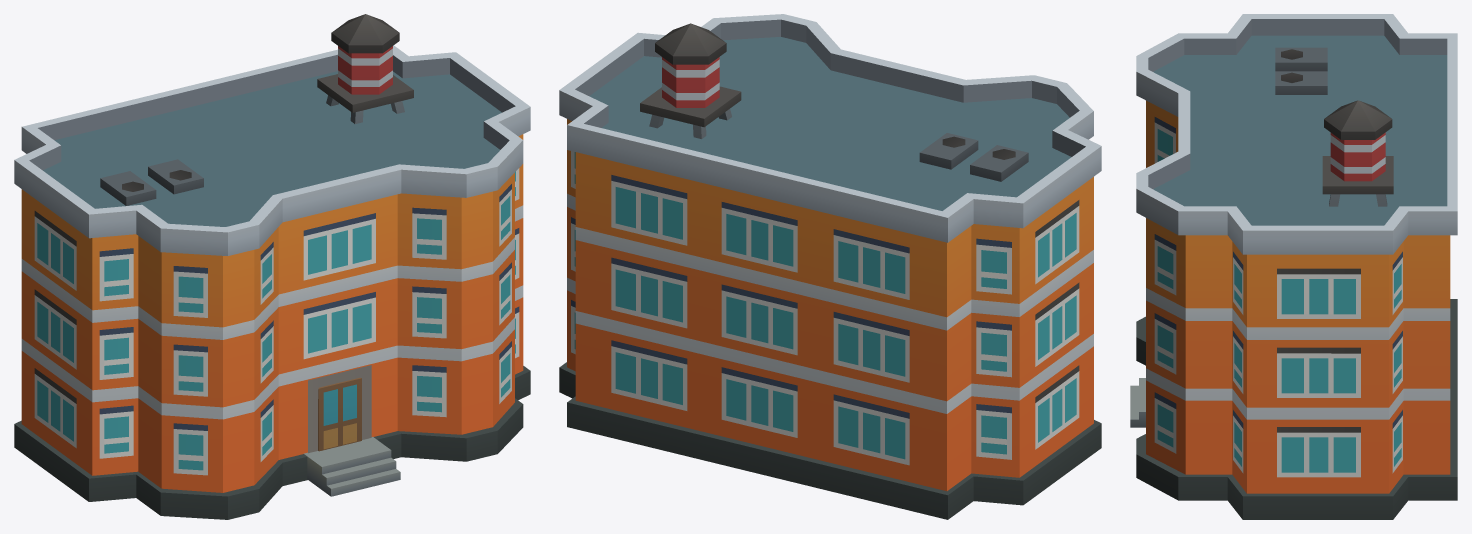
The model's file is Building_cartoon_24.fbx.
3 views of the same model, side by side, from view 1: azimuth 30°, elevation 25°; view 2: azimuth 150°, elevation 25°; view 3: azimuth 270°, elevation 25° (orthographic). The views are drawn at different scales.
Visible parts, largest first — view 1: Building_cartoon_24; view 2: Building_cartoon_24; view 3: Building_cartoon_24.
Part boxes in pixels (left/top/right/bottom): Building_cartoon_24: left=14, top=14, right=530, bottom=519; Building_cartoon_24: left=559, top=14, right=1101, bottom=519; Building_cartoon_24: left=1130, top=14, right=1457, bottom=519.
Bounding box in the file's own units: 1880 × 1483 × 1200.
